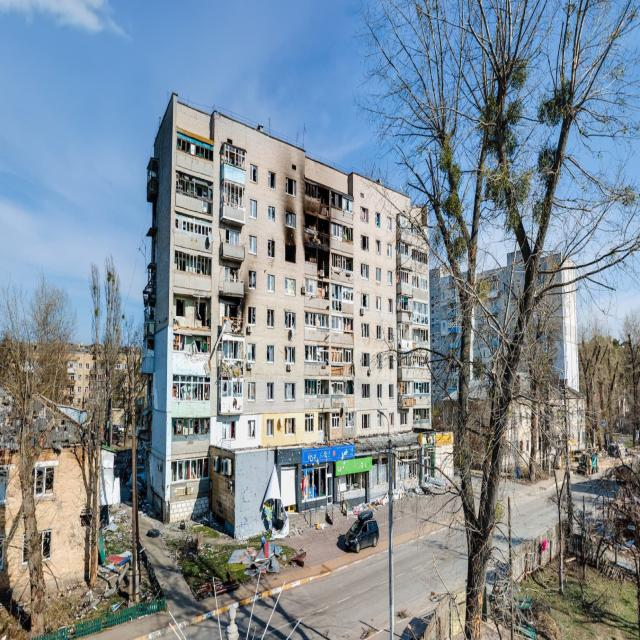broken_window: (177, 131, 214, 162), (173, 374, 211, 402), (171, 457, 210, 484), (302, 463, 327, 502), (175, 250, 212, 276), (220, 180, 245, 211), (171, 417, 210, 436), (221, 143, 246, 170), (398, 449, 419, 480), (331, 284, 354, 312), (339, 471, 365, 495), (304, 379, 330, 399), (305, 311, 330, 329), (305, 345, 330, 363), (332, 252, 353, 271), (331, 315, 354, 332), (331, 347, 354, 364), (331, 381, 354, 395), (396, 268, 413, 285), (222, 421, 236, 441), (396, 241, 412, 258), (397, 295, 413, 312), (397, 381, 414, 395), (397, 353, 413, 367), (225, 266, 238, 283), (413, 408, 430, 421), (284, 345, 295, 364), (285, 382, 295, 402), (285, 311, 295, 330), (342, 197, 353, 214), (247, 419, 256, 439), (250, 162, 258, 184), (249, 270, 257, 290), (248, 306, 256, 326), (248, 343, 256, 363), (343, 226, 353, 242), (346, 411, 355, 428), (268, 239, 275, 260), (361, 293, 369, 311), (268, 170, 275, 190), (360, 206, 368, 223), (360, 235, 368, 252), (362, 322, 370, 339), (267, 309, 274, 328), (361, 263, 369, 279), (267, 345, 274, 363), (268, 204, 275, 222), (362, 352, 370, 367), (362, 384, 370, 399), (362, 414, 370, 429), (400, 411, 408, 425), (376, 325, 382, 341), (376, 240, 381, 256), (376, 296, 381, 312), (377, 384, 382, 399), (376, 212, 381, 226), (389, 413, 394, 427)
building: (136, 92, 455, 539)
damage: (302, 431, 453, 465), (218, 287, 250, 377), (305, 179, 330, 279), (176, 170, 213, 216), (174, 291, 211, 330), (137, 374, 154, 450), (141, 263, 156, 336), (172, 334, 211, 362), (285, 177, 296, 264), (318, 412, 343, 442), (146, 198, 157, 266), (331, 190, 342, 210)
other: (428, 0, 640, 629), (49, 0, 599, 208), (20, 483, 640, 640), (378, 187, 429, 245), (376, 407, 392, 505), (373, 345, 433, 363)
